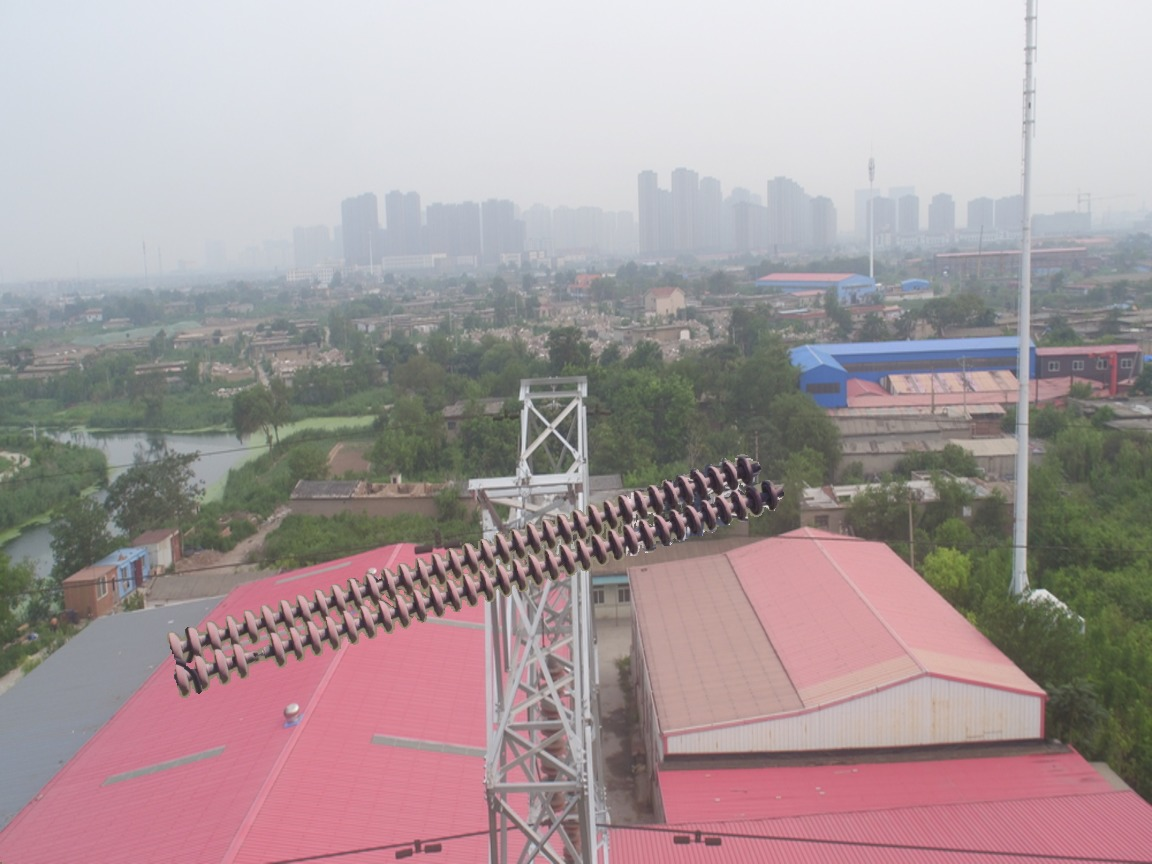defect: (227, 632, 292, 679)
